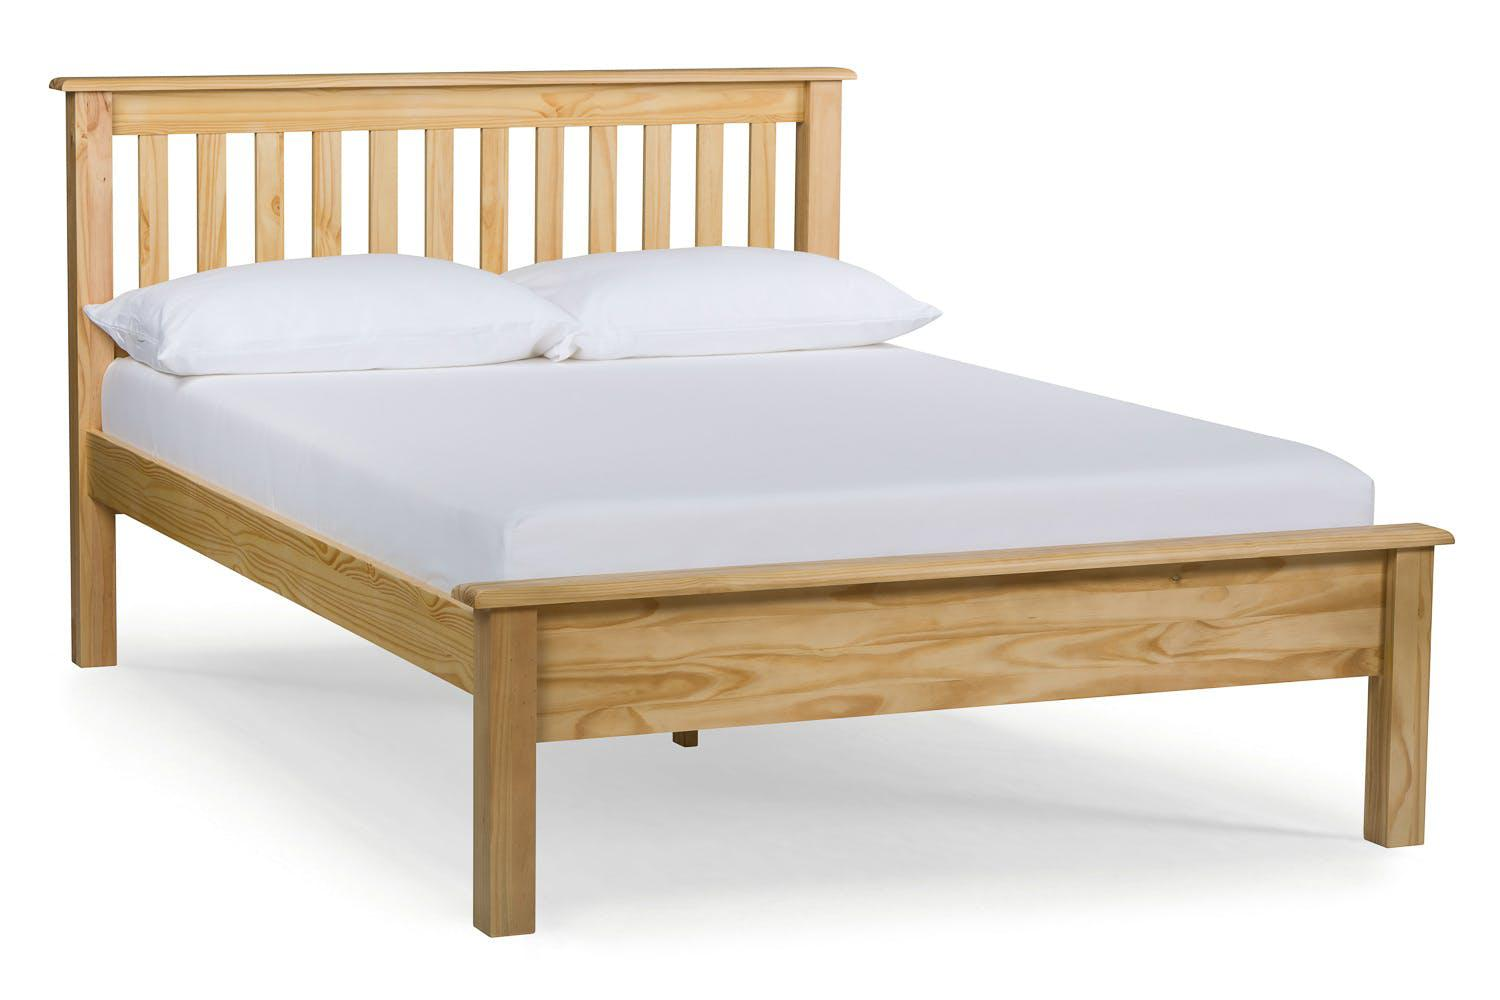bed: (33, 52, 1464, 959)
